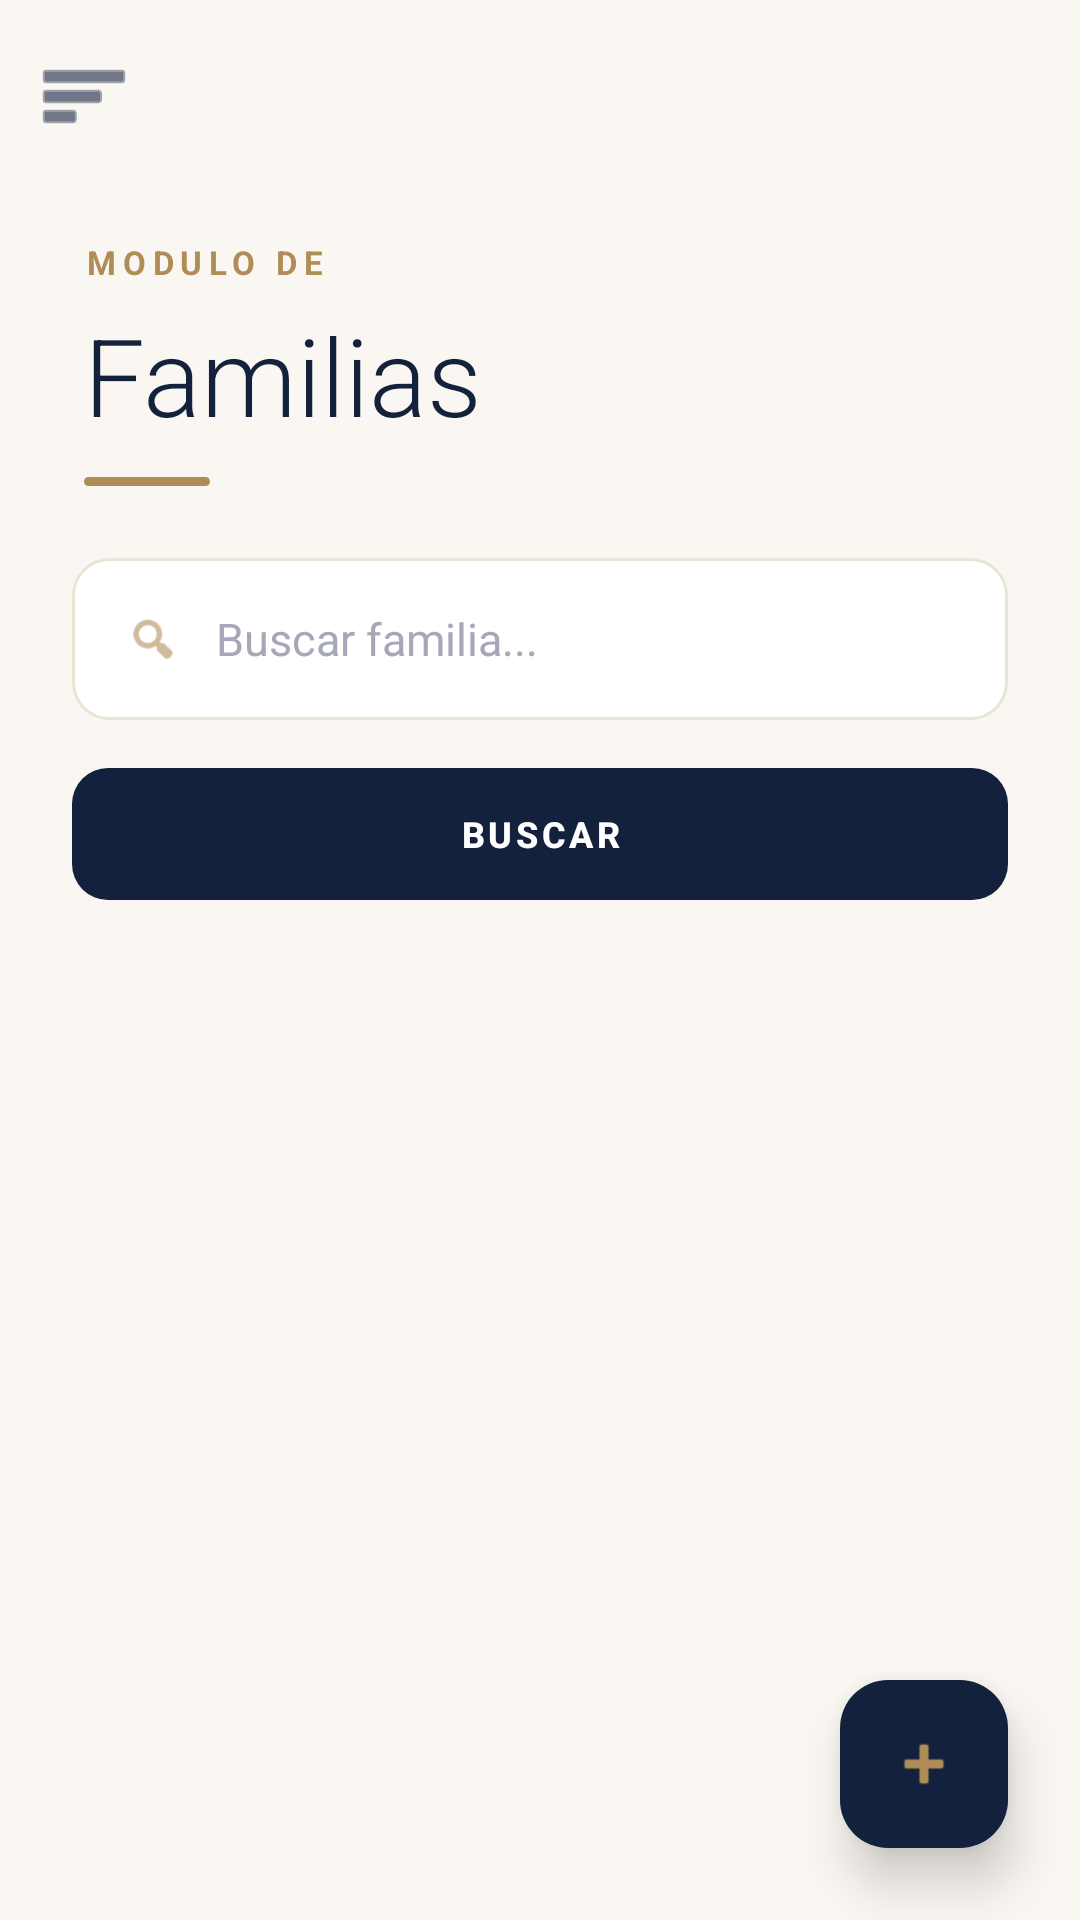

Screen size 1080 × 1920. Icon name, then its box in pixels as (x1=x1, y1=y1, x2=x2, y2=y2):
add: (x1=840, y1=1680, x2=1008, y2=1848)
search: (x1=133, y1=619, x2=173, y2=659)
